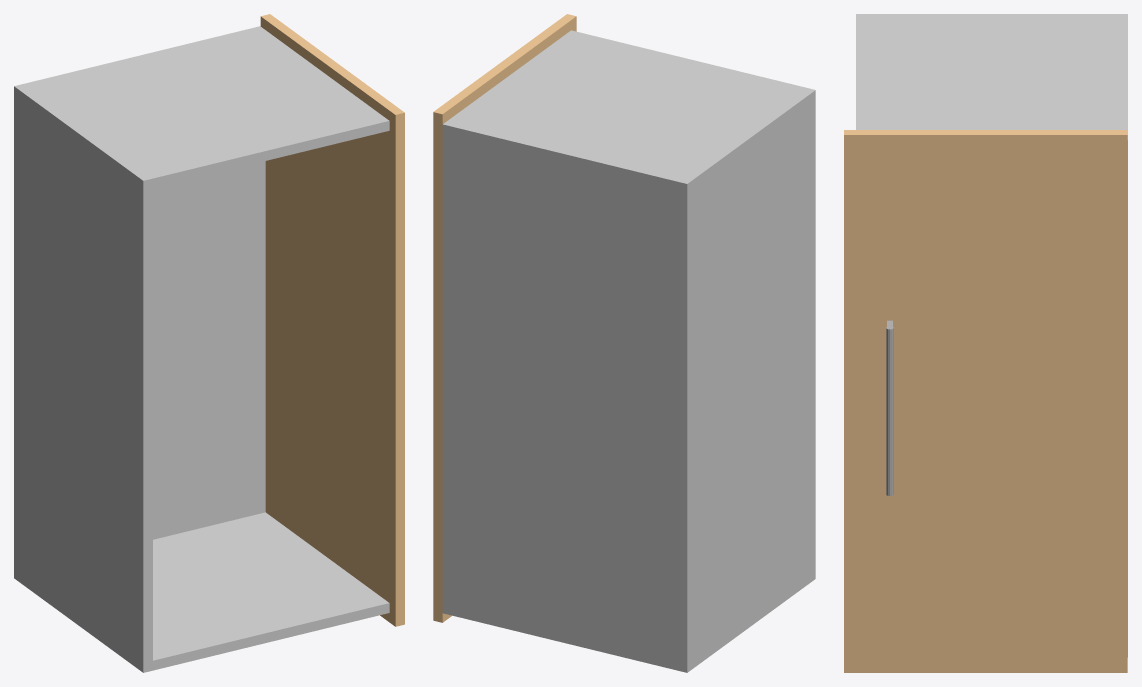
Rendered from ROOM73B2-HRP2-PARTS-DRAWER-BODYSET6_link_mesh.dae.
The picture shows the model from 3 angles, left to right: view 1: azimuth 30°, elevation 25°; view 2: azimuth 150°, elevation 25°; view 3: azimuth 270°, elevation 25°; orthographic projection. The views are drawn at different scales.
Parts seen in each view (by area): view 1: ROOM73B2-HRP2-PARTS-DRAWER-BODYSET6_link (×2); view 2: ROOM73B2-HRP2-PARTS-DRAWER-BODYSET6_link (×2); view 3: ROOM73B2-HRP2-PARTS-DRAWER-BODYSET6_link (×3).
Part boxes in pixels (x1,y1,x2,y2): ROOM73B2-HRP2-PARTS-DRAWER-BODYSET6_link (×2): (14, 14, 404, 672); ROOM73B2-HRP2-PARTS-DRAWER-BODYSET6_link (×2): (433, 14, 815, 672); ROOM73B2-HRP2-PARTS-DRAWER-BODYSET6_link (×3): (844, 14, 1127, 672).
Size of the model in its own units: 0.433 by 0.775 by 0.3705.
